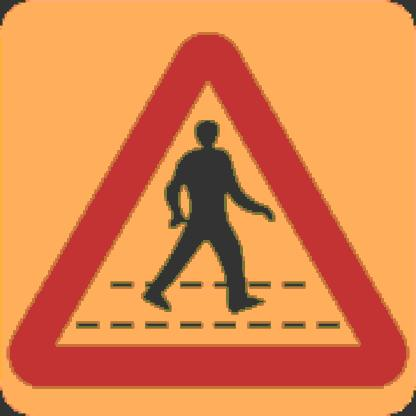Pedestrian Crossing: (25, 34, 402, 386)
